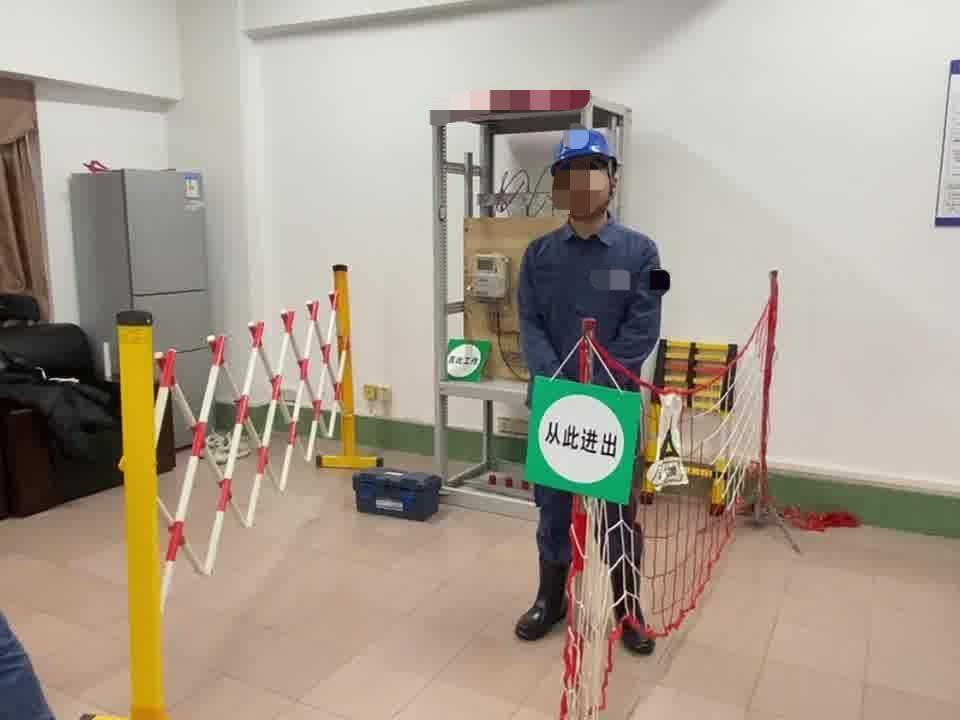halt: (550, 129, 626, 232)
